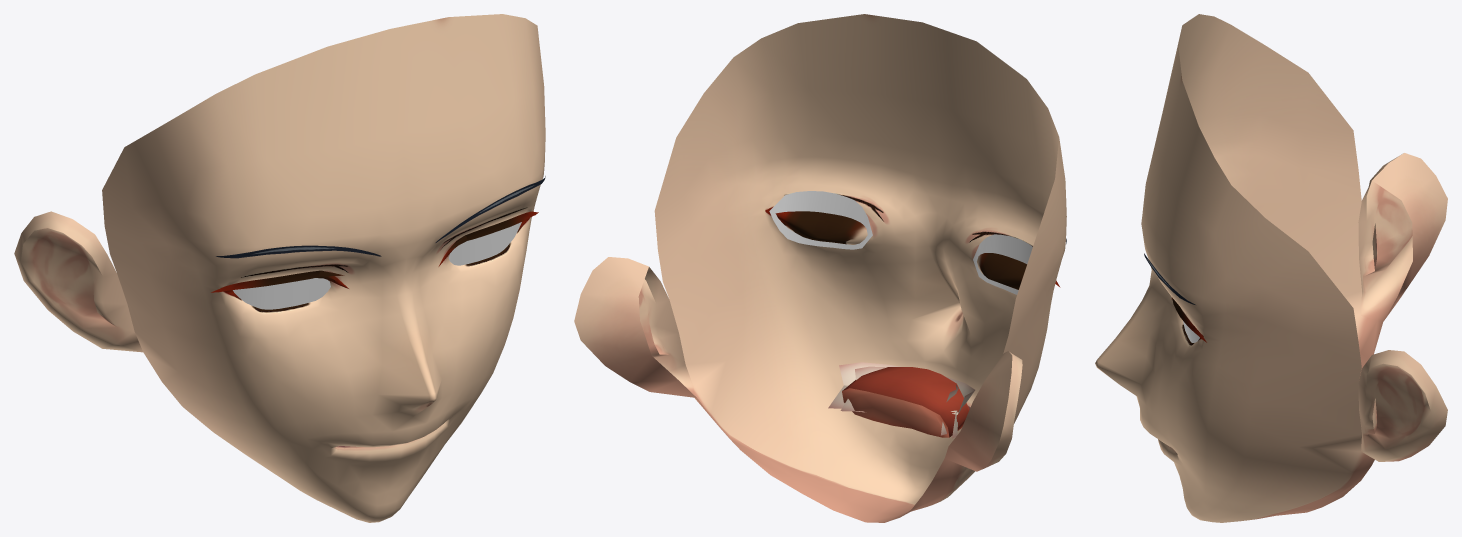
File: Niki.fbx
3 renders of one model, left to right at view 1: azimuth 30°, elevation 25°; view 2: azimuth 150°, elevation 25°; view 3: azimuth 270°, elevation 25°, orthographic. The views are drawn at different scales.
Parts seen in each view (by area): view 1: M_Head, M_Eye_B_Def, M_Mth_B_Def, M_PupALL_R_A_Def, M_PupALL_L_A_Def, M_Brw_B_Def; view 2: M_Head, M_Eye_B_Def, M_Mth_B_Def, M_PupALL_L_A_Def, M_PupALL_R_A_Def; view 3: M_Head, M_Eye_B_Def, M_Mth_B_Def.
Part boxes in pixels (x1,y1,x2,y2): M_Head: (14,14,545,390); M_Eye_B_Def: (159,135,545,404); M_Mth_B_Def: (143,347,503,522); M_PupALL_R_A_Def: (233,278,330,309); M_PupALL_L_A_Def: (448,222,521,265); M_Brw_B_Def: (216,176,545,258); M_Head: (574,14,1066,471); M_Eye_B_Def: (708,135,1066,406); M_Mth_B_Def: (693,306,1029,522); M_PupALL_L_A_Def: (769,191,872,249); M_PupALL_R_A_Def: (973,234,1032,294); M_Head: (1144,14,1447,461); M_Eye_B_Def: (1095,113,1259,444); M_Mth_B_Def: (1095,315,1382,522).
Size of the model in its own units: 0.1625 by 0.1667 by 0.1132.
5 materials, 3 textured.
